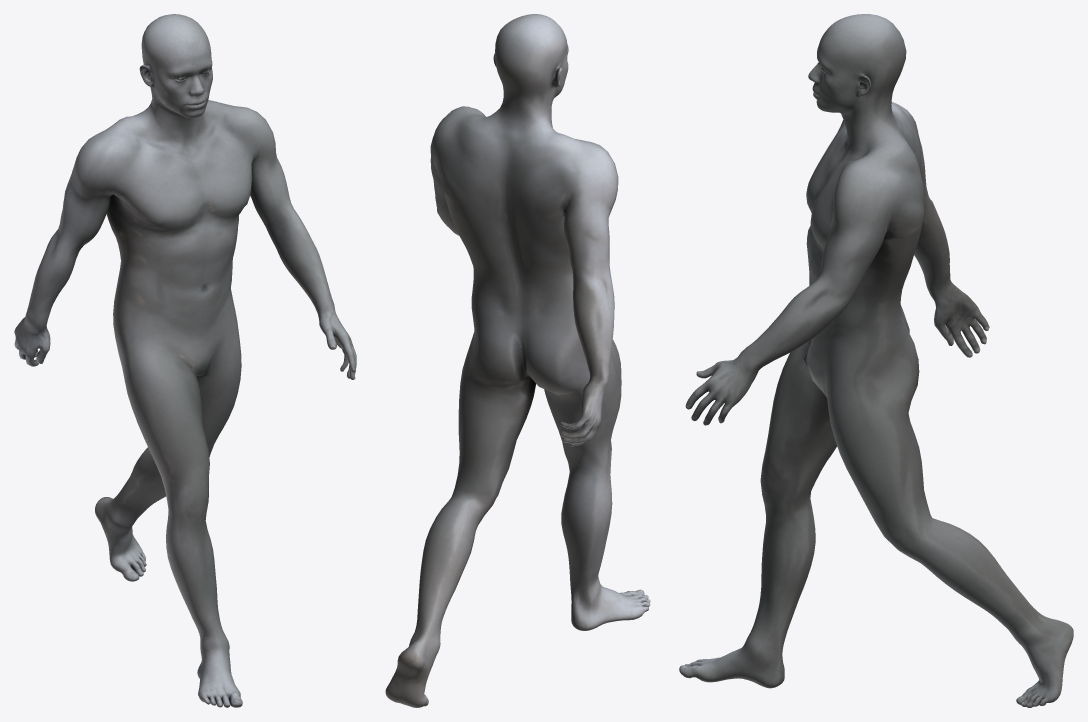
The model's file is male_locomotion.glb.
3 renders of one model, left to right at view 1: azimuth 30°, elevation 25°; view 2: azimuth 150°, elevation 25°; view 3: azimuth 270°, elevation 25°, orthographic. The views are drawn at different scales.
Parts seen in each view (by area): view 1: male_locomotion; view 2: male_locomotion; view 3: male_locomotion.
Part boxes in pixels (<box>): male_locomotion: <box>14,14,356,707</box>; male_locomotion: <box>385,14,650,707</box>; male_locomotion: <box>679,14,1073,707</box>.
Bounding box in the file's own units: 0.6149 × 1.66 × 0.881.
Materials: 1 (1 with a texture image).
